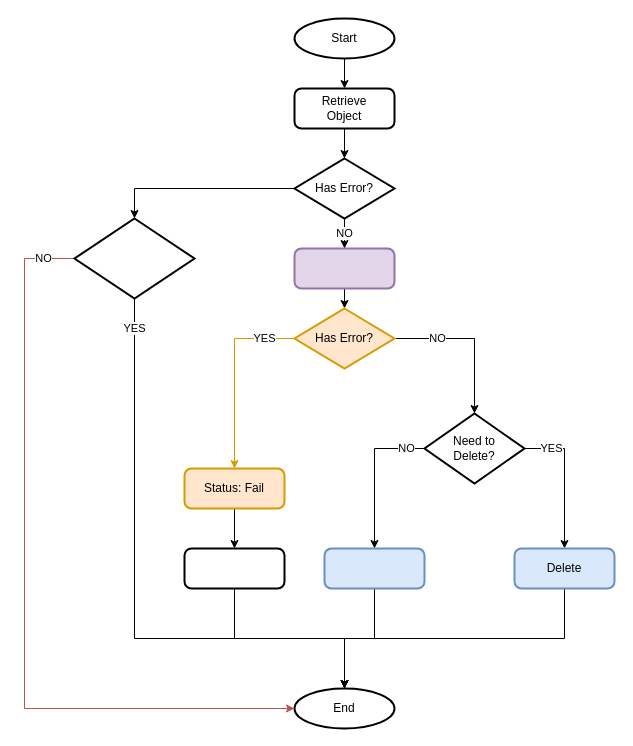
This 633x746 diagram has some shape labels left out. Here are the shapes that lost their labels. From the top down, the centre of each, then its label:
At (134,258): "Object Not Found?".
At (344,268): "Connect".
At (234,568): "Update Status".
At (374,568): "Sync".
